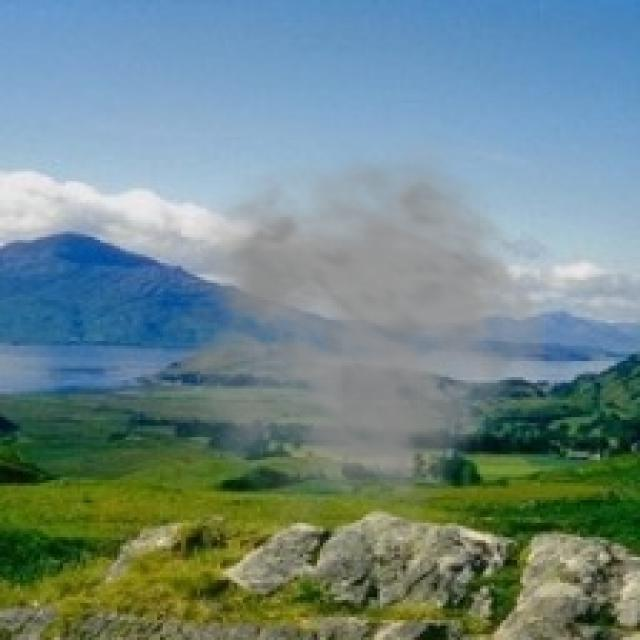Smoke: (137, 143, 549, 543)
